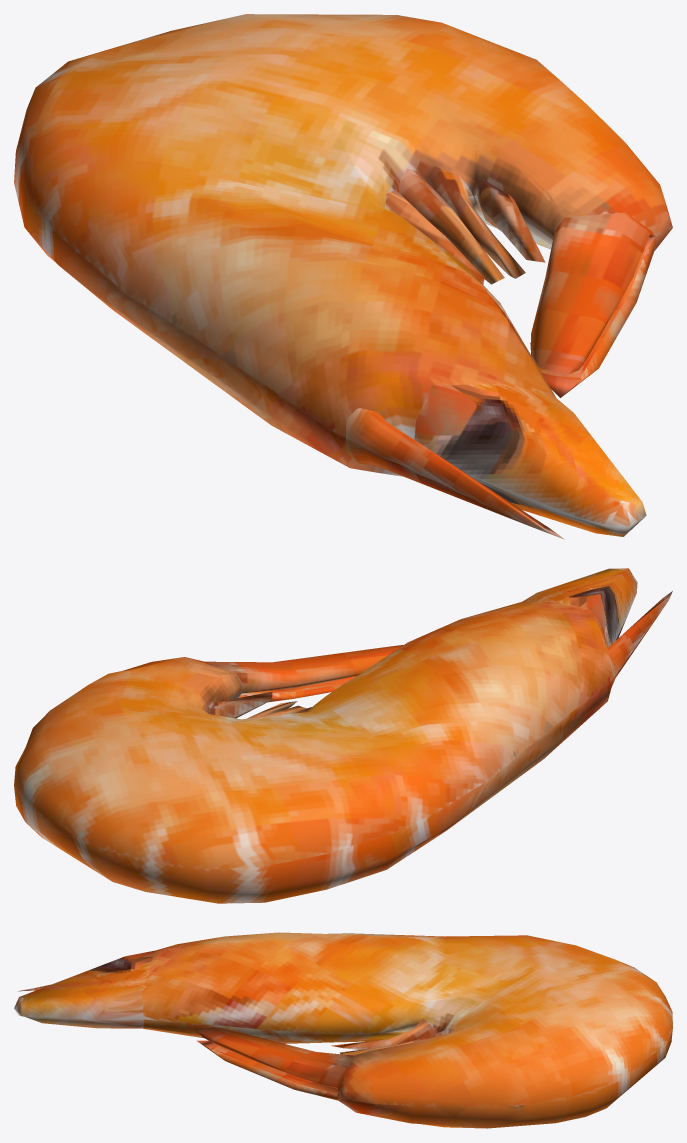
Rendered from ref_shrimp.fbx.
The picture shows the model from 3 angles, top to bottom: view 1: azimuth 30°, elevation 25°; view 2: azimuth 150°, elevation 25°; view 3: azimuth 270°, elevation 25°; orthographic projection. The views are drawn at different scales.
Visible parts, largest first — view 1: ref_shrimp; view 2: ref_shrimp; view 3: ref_shrimp.
Boxes of the visible parts, <box> form: ref_shrimp: <box>14,14,672,539</box>; ref_shrimp: <box>14,568,672,903</box>; ref_shrimp: <box>14,932,672,1128</box>.
Size of the model in its own units: 52.95 by 16.19 by 100.
Materials: 1 (1 with a texture image).
